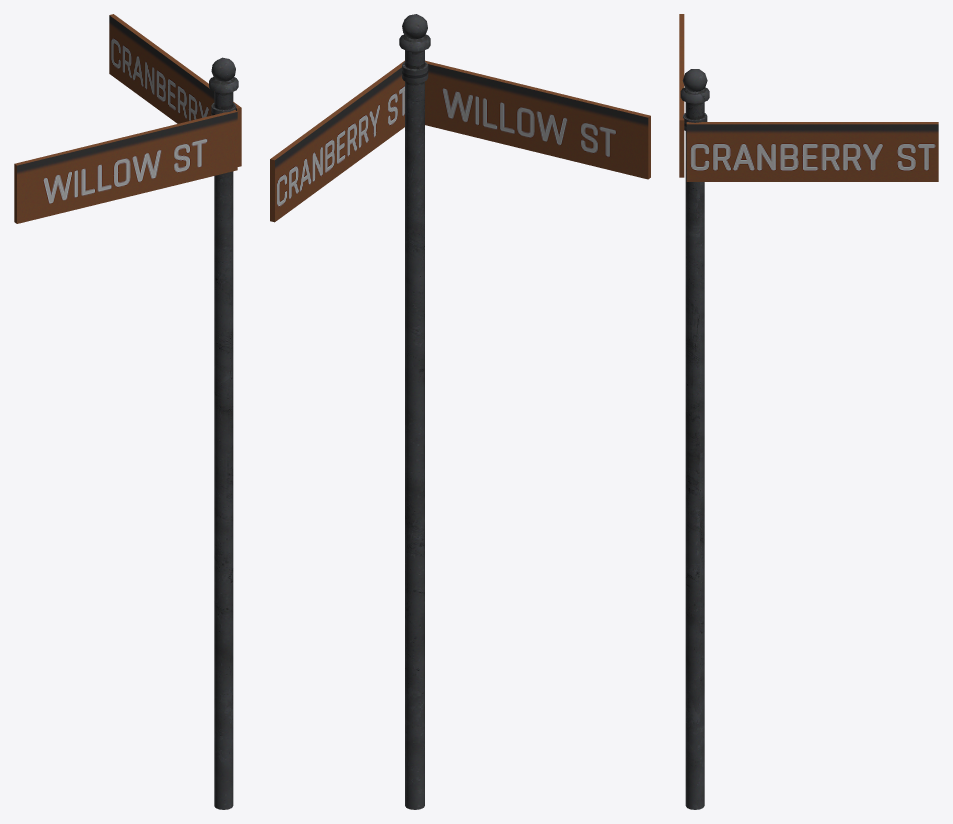
File: Road_Sign_08.fbx
The picture shows the model from 3 angles, left to right: view 1: azimuth 30°, elevation 25°; view 2: azimuth 150°, elevation 25°; view 3: azimuth 270°, elevation 25°; orthographic projection. The views are drawn at different scales.
Visible parts, largest first — view 1: Road_Sign_08_LOD0; view 2: Road_Sign_08_LOD0; view 3: Road_Sign_08_LOD0.
Part boxes in pixels (x1,y1,x2,y2): Road_Sign_08_LOD0: [14, 14, 241, 809]; Road_Sign_08_LOD0: [270, 14, 650, 809]; Road_Sign_08_LOD0: [679, 14, 938, 809].
Size of what is drawn, in the model's own units: 69.41 by 217 by 69.32.
